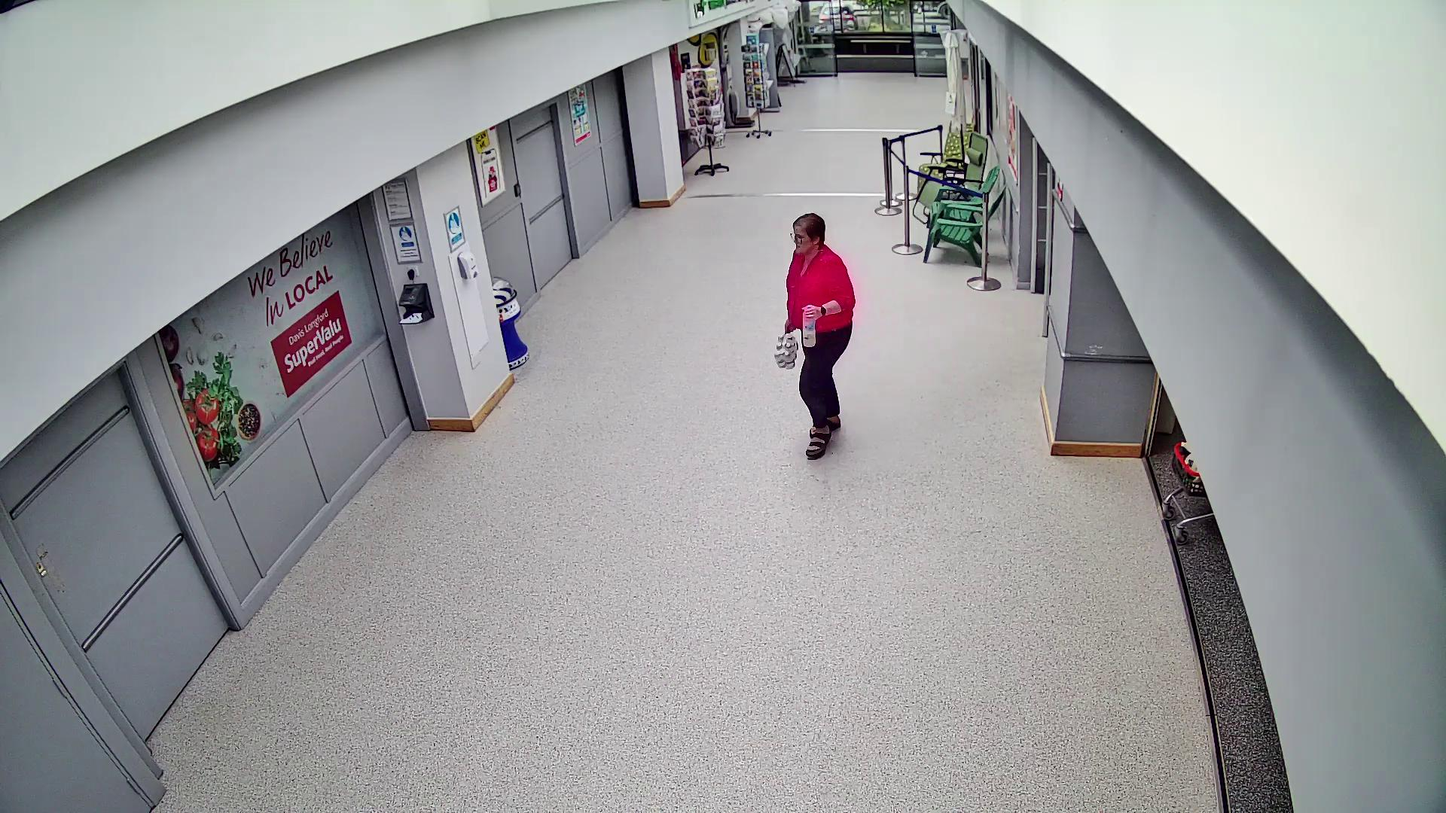carrying-item: (775, 332, 798, 370), (801, 303, 817, 348)
person: (774, 210, 857, 459)
person-with-carrying-item: (773, 213, 856, 458)
